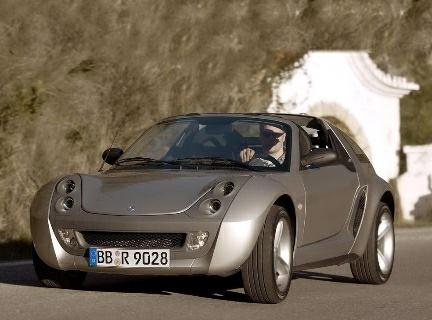smart-roadster: (32, 109, 405, 302)
